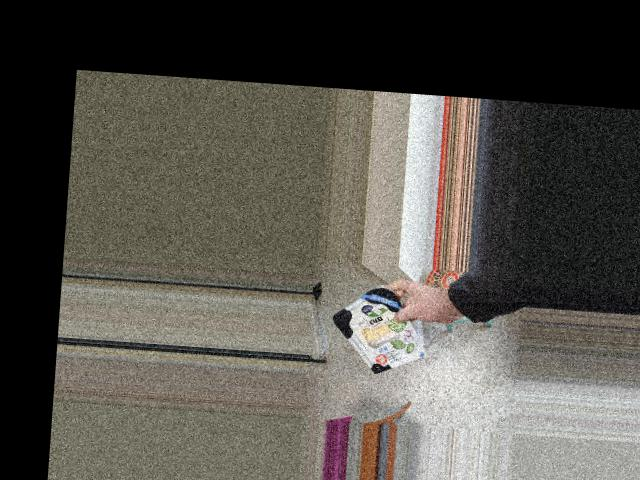cheese: (330, 280, 424, 385)
